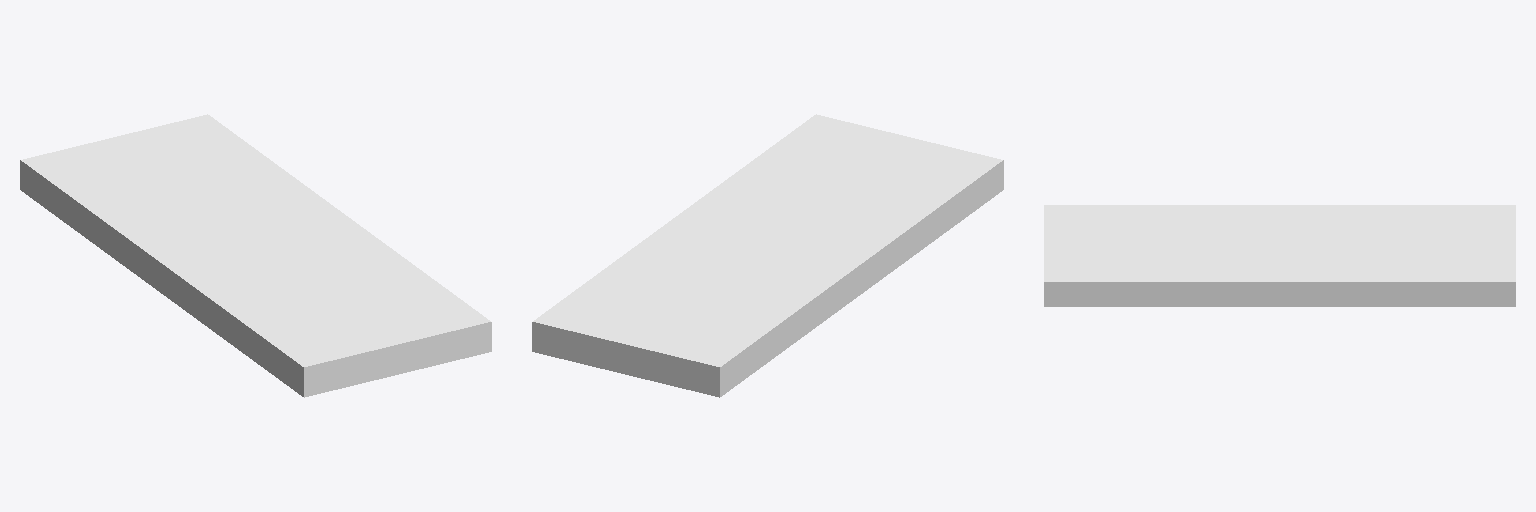
robot.urdf — table:
<?xml version="1.0" ?>
<!-- =================================================================================== -->
<!-- |    This document was autogenerated by xacro from table.urdf.xacro               | -->
<!-- |    EDITING THIS FILE BY HAND IS NOT RECOMMENDED                                 | -->
<!-- =================================================================================== -->
<robot name="table" xmlns:xacro="http://ros.org/wiki/xacro">
  <link name="base_link">
    <contact>
      <lateral_friction value="0.1"/>
    </contact>
    <inertial>
      <origin rpy="0 0 0" xyz="0 0 0"/>
      <mass value="100.0"/>
      <inertia ixx="0.01" ixy="0" ixz="0" iyy="0.01" iyz="0" izz="0.01"/>
    </inertial>
    <visual>
      <origin rpy="0 0 0" xyz="0 0 0"/>
      <geometry>
        <mesh filename="cube.obj" scale="0.65 1.7 0.1"/>
      </geometry>
      <material name="white">
        <color rgba="1 1 1 1"/>
      </material>
    </visual>
    <collision>
      <origin rpy="0 0 0" xyz="0 0 0"/>
      <geometry>
        <mesh filename="cube.obj" scale="0.65 1.7 0.1"/>
      </geometry>
      <material name="white">
        <color rgba="1 1 1 1"/>
      </material>
    </collision>
  </link>
</robot>

--- What the picture shows (computed from the rendered views, not written in the file) ---
Views: 3 orthographic renders of the robot side by side, from view 1: azimuth 30°, elevation 25°; view 2: azimuth 150°, elevation 25°; view 3: azimuth 270°, elevation 25°.
Robot: table — 1 links, 0 joints (none); root link base_link; default pose: all joints at 0.
Links seen in each view (by area): view 1: base_link; view 2: base_link; view 3: base_link.
Boxes of the visible links, box(x1,y1,x2,y2) form: base_link: box(20, 114, 491, 397); base_link: box(532, 114, 1003, 397); base_link: box(1044, 205, 1515, 306).
Size in the robot's own frame: 0.65 by 1.7 by 0.1 metres.
Meshes: 1 distinct files referenced, 1 mesh visuals loaded (1 OBJ).
